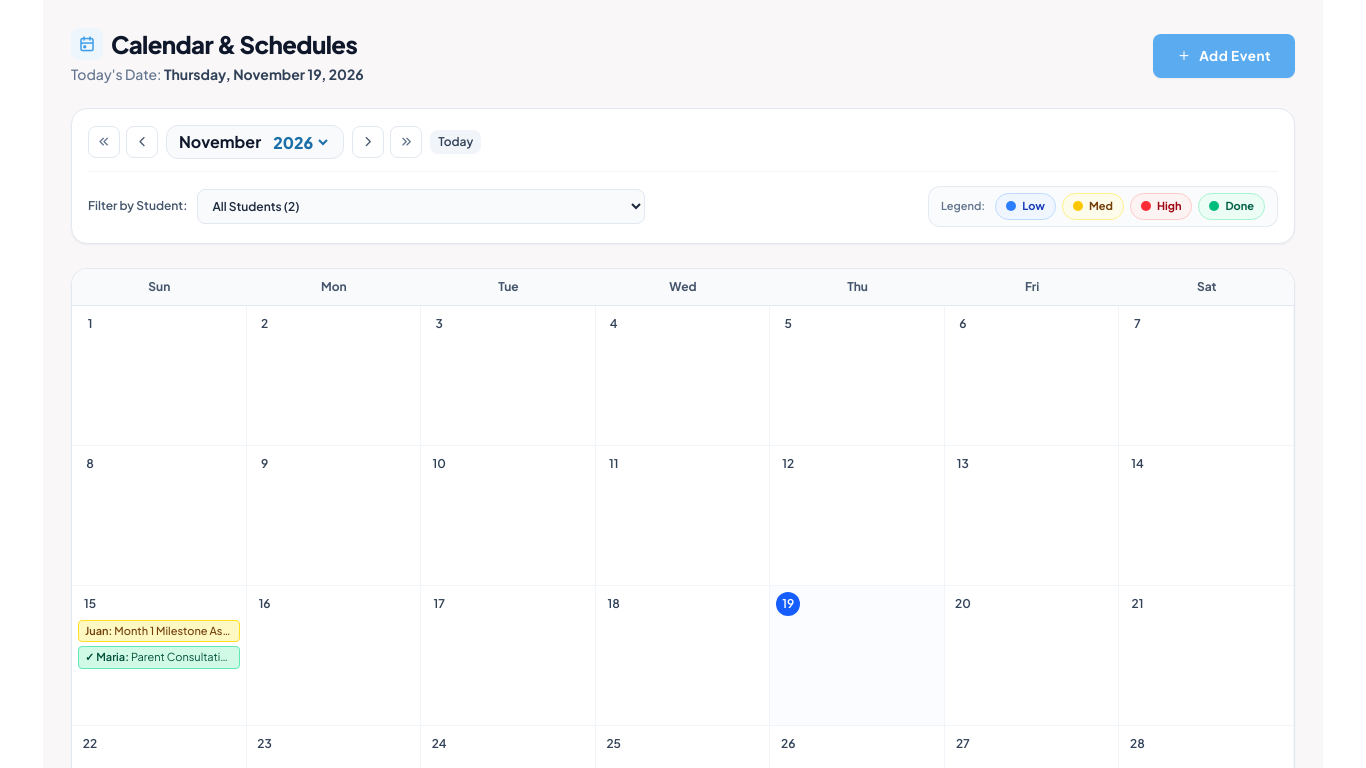
IepCalendarPage › opens Event Details Drawer showing priority badge (no Pending label) when an event chip is clicked
Click the button with test id "event-pill-10" at (159, 631), box [78, 620, 240, 642]
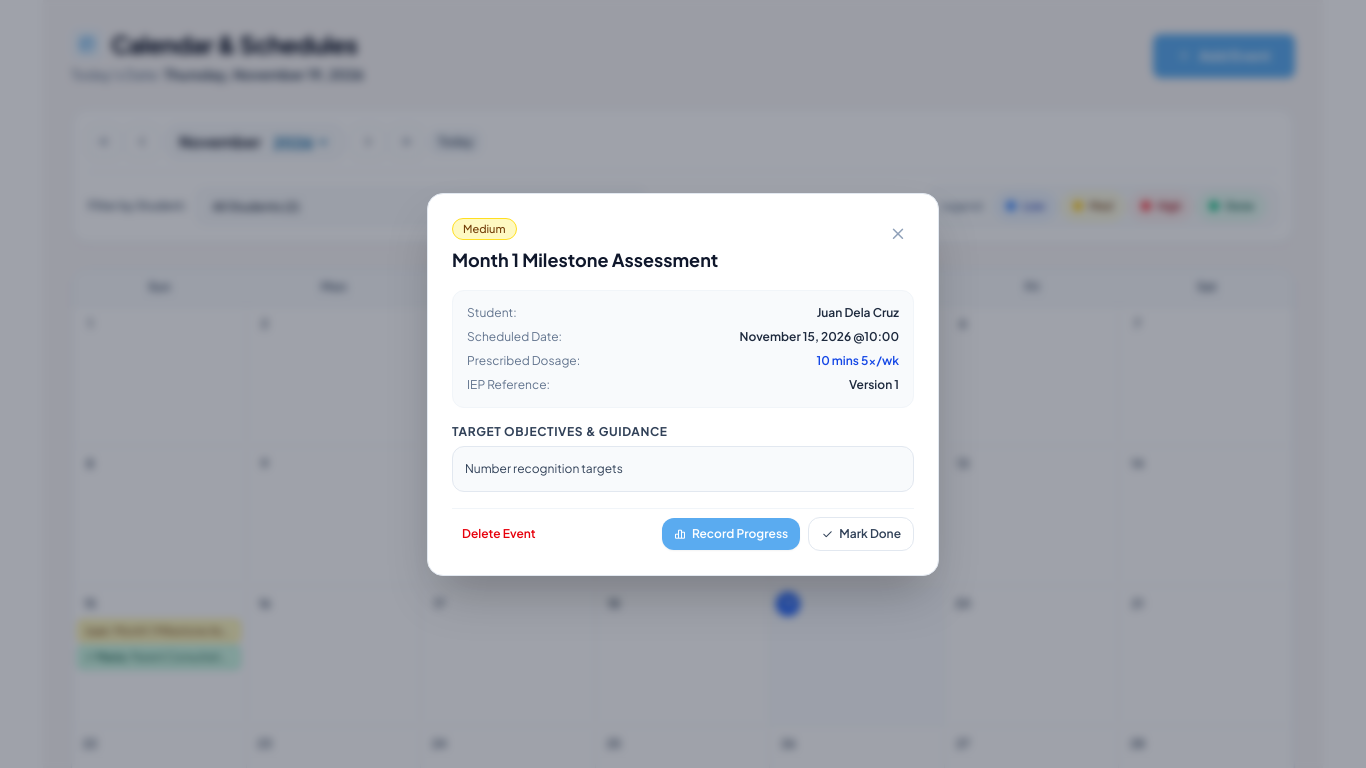
Expected: the dialog with test id "event-details-drawer" is shown
Expected: the dialog with test id "event-details-drawer" shows "Medium", [463, 222, 506, 234]
Expected: the text "Number recognition targets" is shown, [452, 446, 914, 492]
